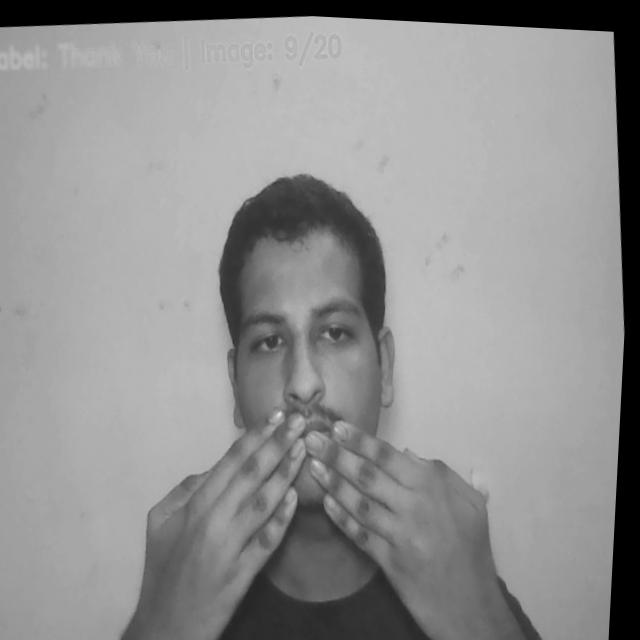Thank You: (129, 380, 499, 640)
